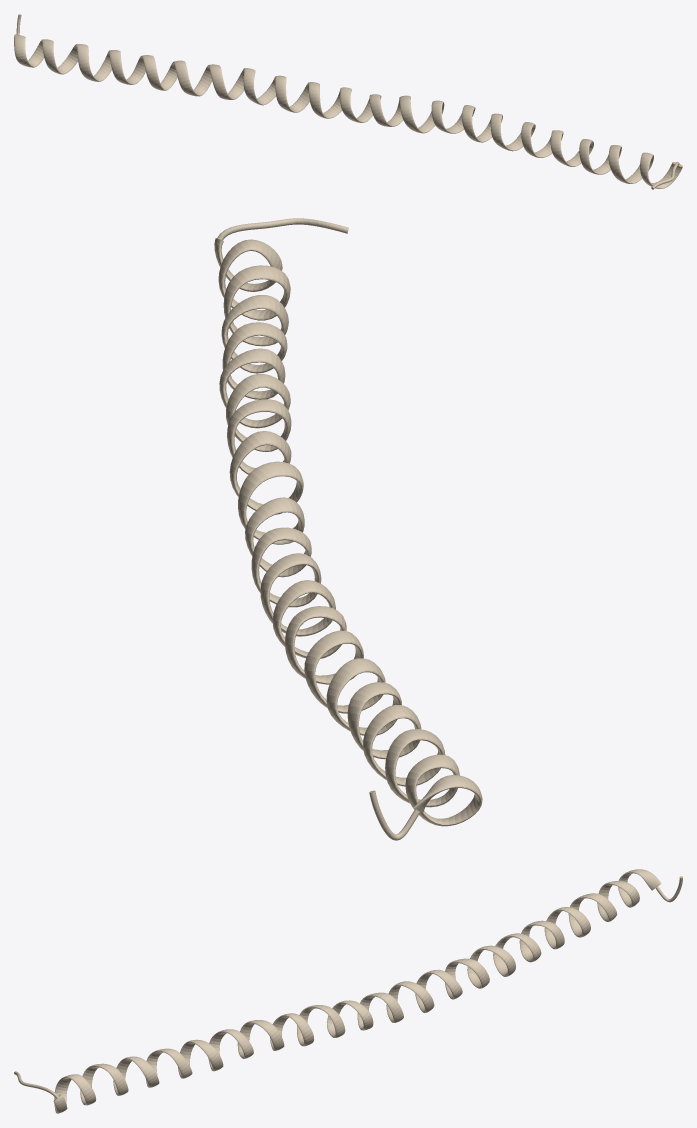
File: HelixrCoilHelix.dae
3 views of the same model, one above another, from view 1: azimuth 30°, elevation 25°; view 2: azimuth 150°, elevation 25°; view 3: azimuth 270°, elevation 25° (orthographic). The views are drawn at different scales.
Visible parts, largest first — view 1: Shape_IndexedTriangleStripSet_080; view 2: Shape_IndexedTriangleStripSet_080; view 3: Shape_IndexedTriangleStripSet_080.
Part boxes in pixels (x1=…): Shape_IndexedTriangleStripSet_080: x1=14, y1=14, x2=682, y2=189; Shape_IndexedTriangleStripSet_080: x1=214, y1=218, x2=482, y2=840; Shape_IndexedTriangleStripSet_080: x1=14, y1=869, x2=682, y2=1113.
Bounding box in the file's own units: 72.93 × 98.38 × 8.36.
